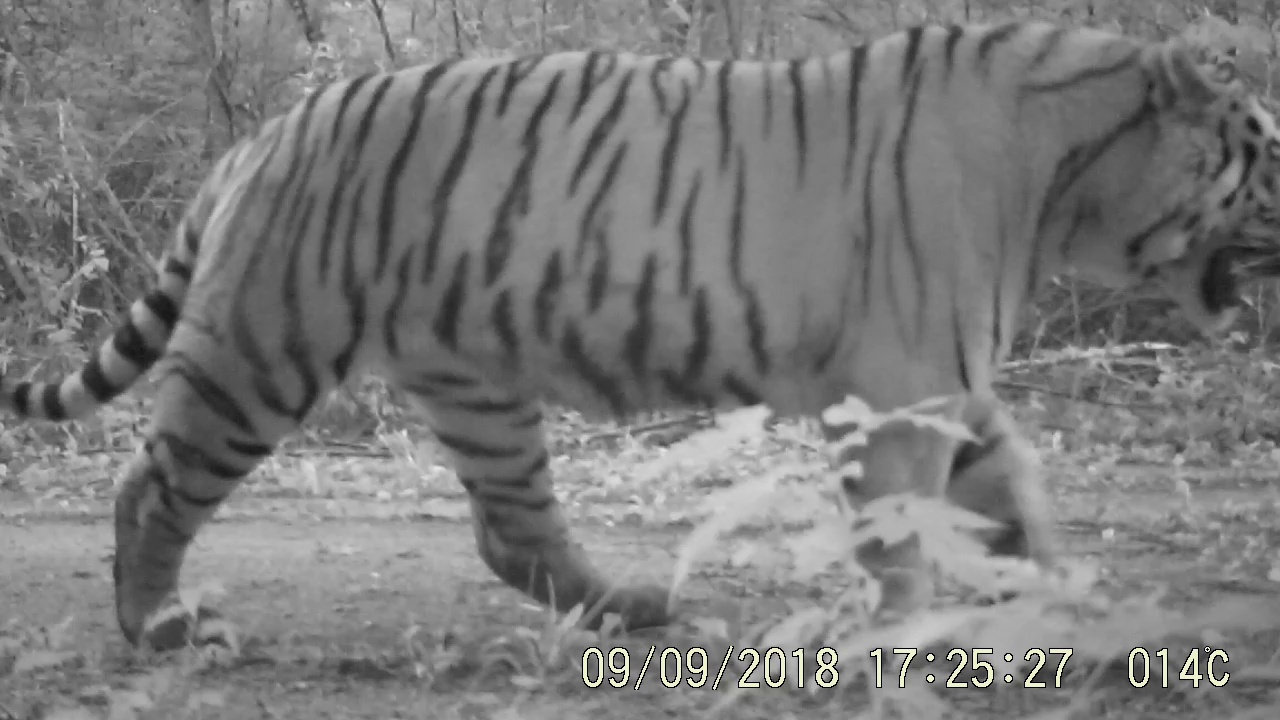Tiger: (19, 6, 1280, 635)
